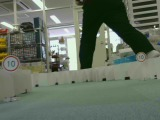speed_10: (1, 54, 20, 73), (134, 51, 147, 64)
